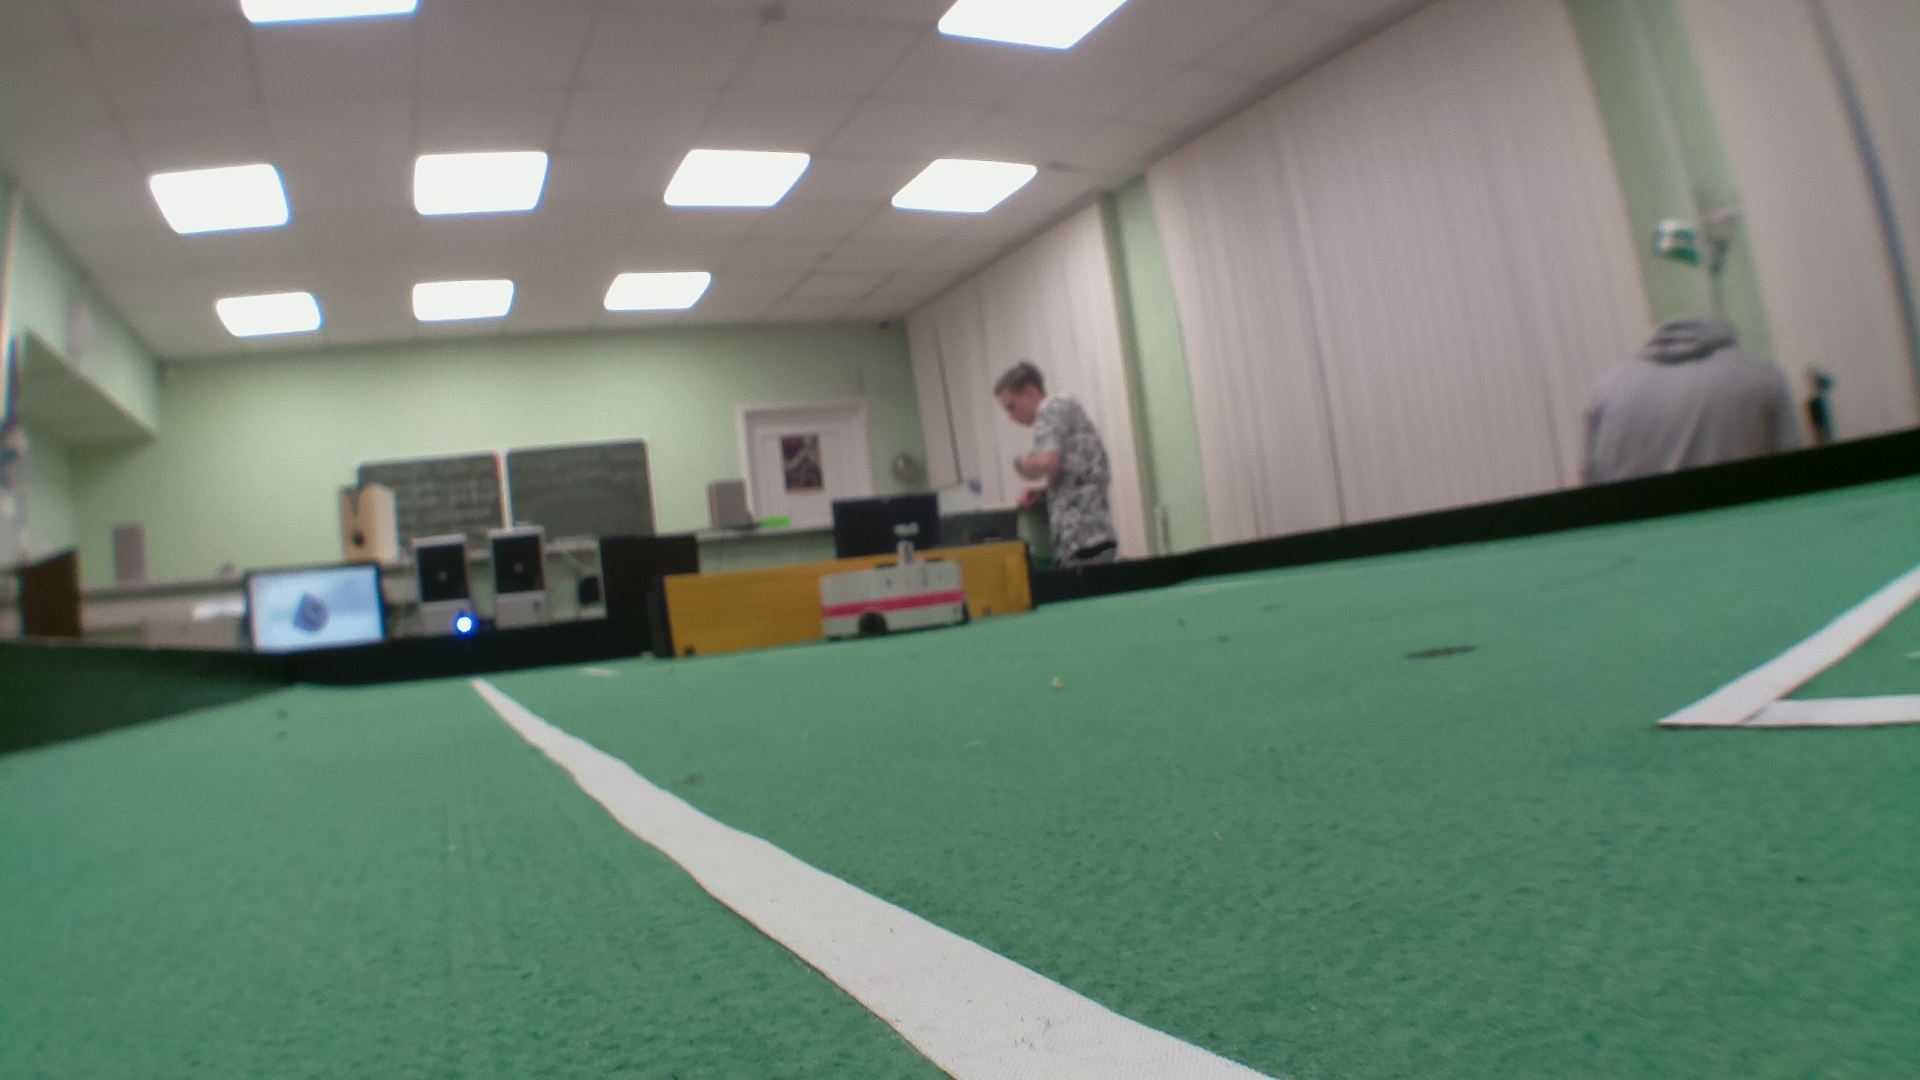YellowGoal: (665, 566, 1029, 615)
